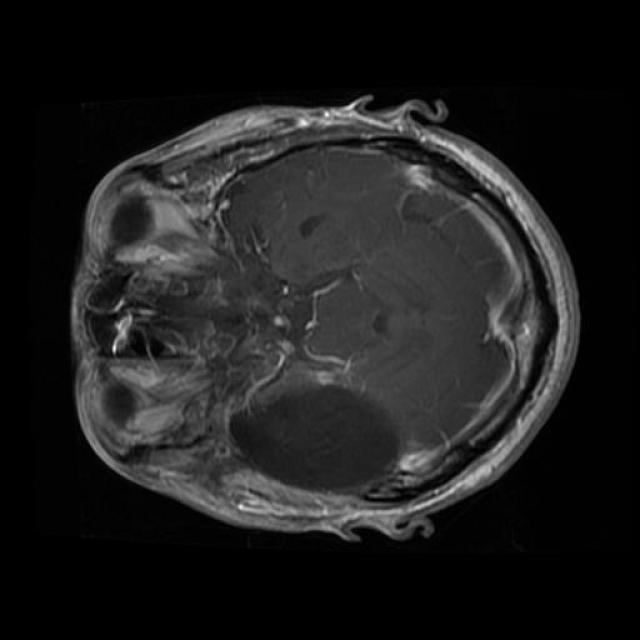Glioma: (232, 385, 398, 488)
